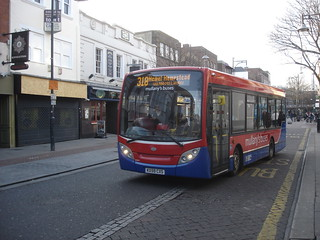bus: (117, 66, 286, 181)
